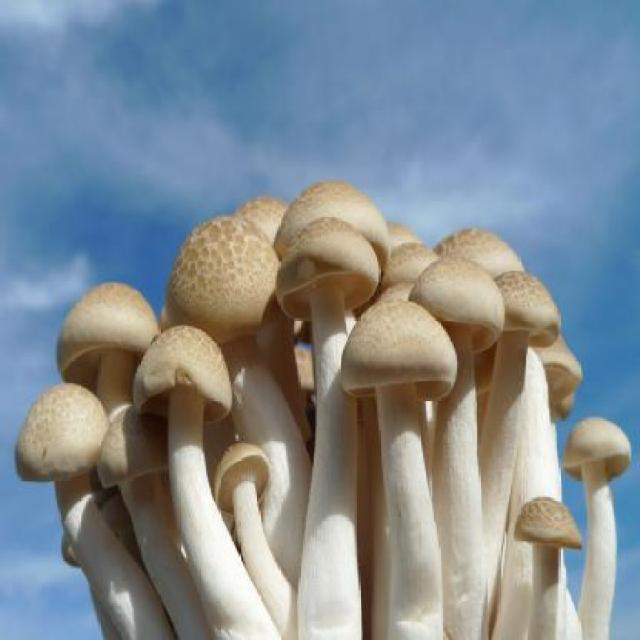Mushroom: (40, 206, 618, 632)
